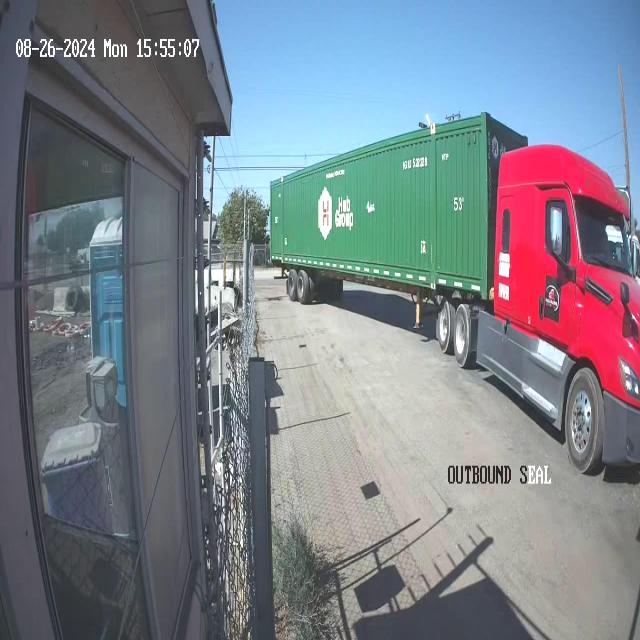CONTAINER: (268, 82, 527, 296)
